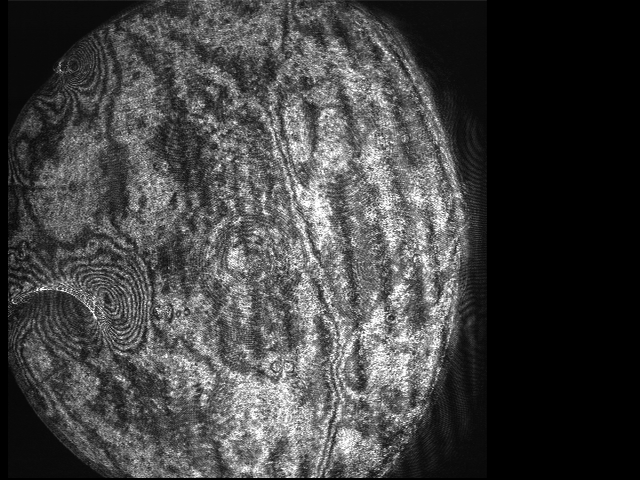plume: (42, 264, 148, 349), (34, 30, 107, 112)
